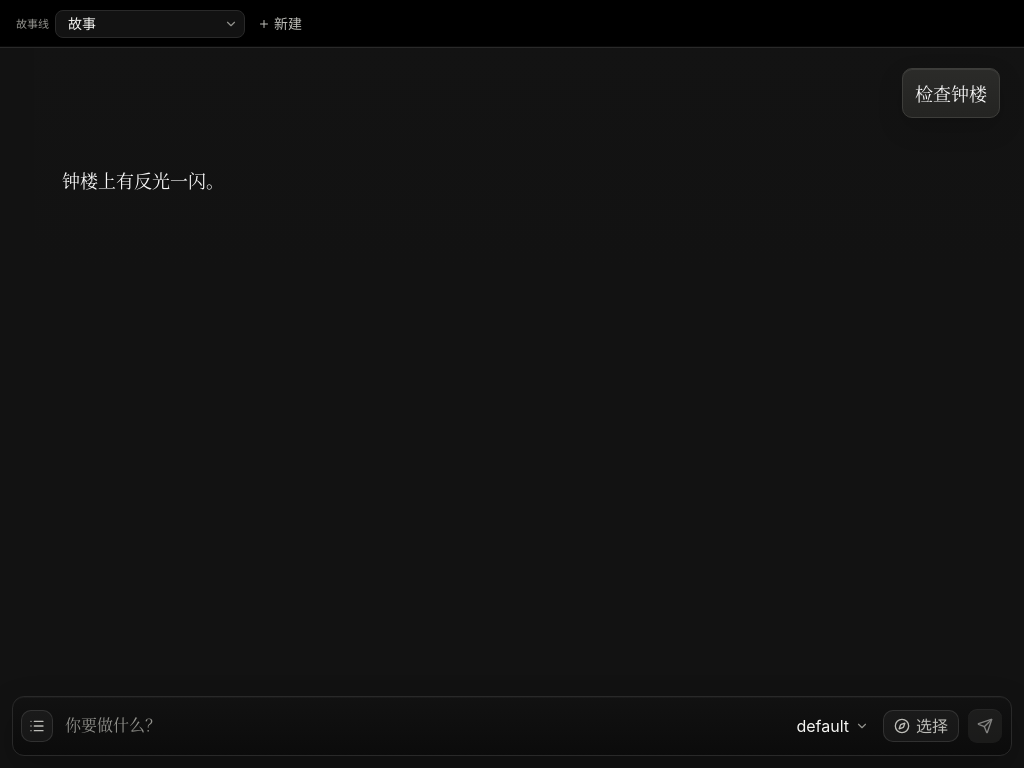
Test case: StoryStage TurnResult choices › uses persisted TurnResult choices and only reveals them after the user opens the panel
The width and height of the screenshot is (1024, 768).
Expected: the text "绕到钟楼背面" is not shown
Click the button with aria-label "获取行动选择". click: (921, 726)
box: x1=883 y1=710 x2=959 y2=742
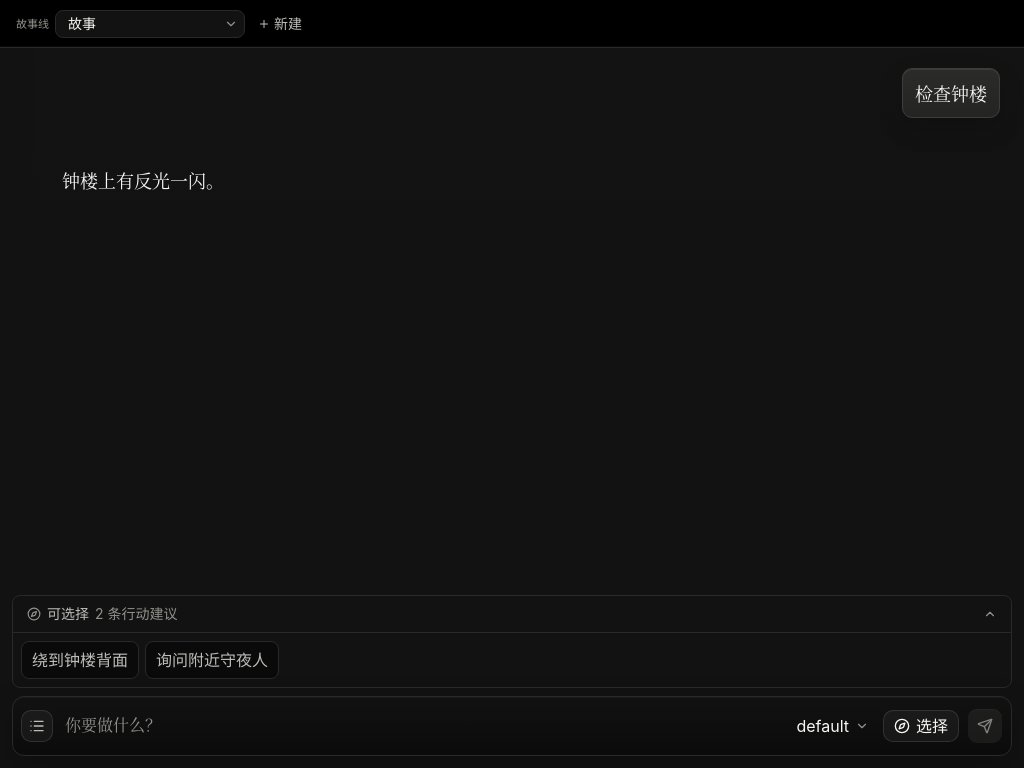
Expected: the text "绕到钟楼背面" is shown, x1=32 y1=648 x2=128 y2=672
